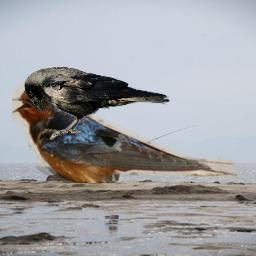Crow: (24, 66, 171, 140)
Swallow: (12, 80, 238, 183)
